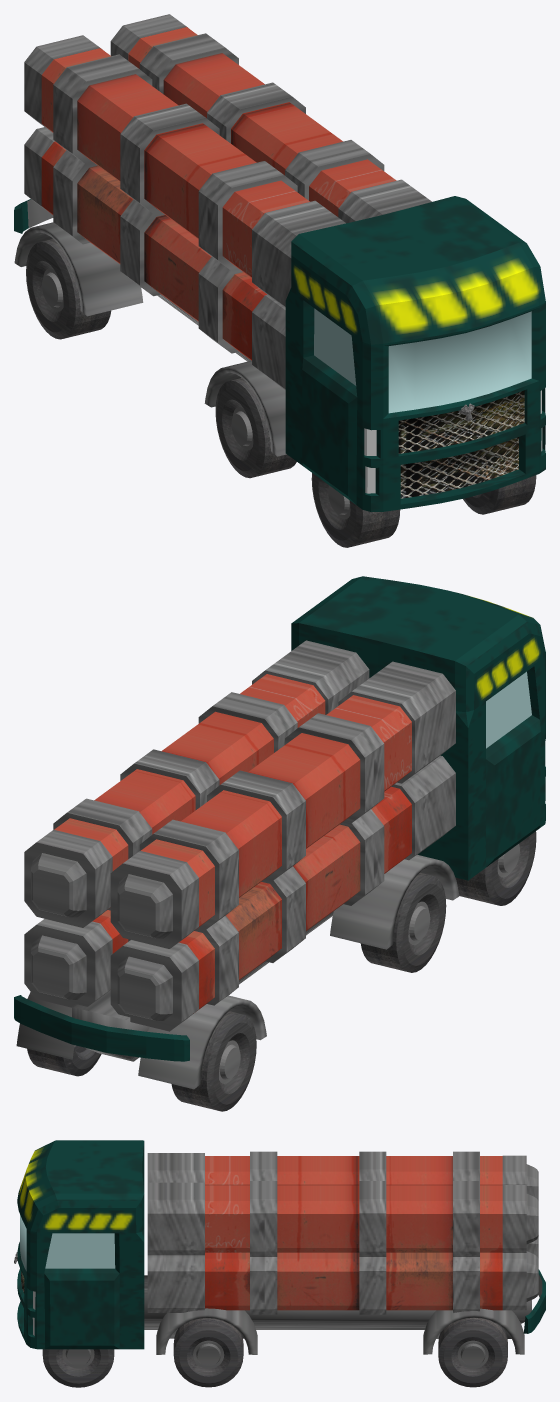
File: Truck 6.fbx
3 renders of one model, top to bottom at view 1: azimuth 30°, elevation 25°; view 2: azimuth 150°, elevation 25°; view 3: azimuth 270°, elevation 25°, orthographic. The views are drawn at different scales.
Parts seen in each view (by area): view 1: Cube; view 2: Cube; view 3: Cube.
Part boxes in pixels (x1,y1,x2,y2): Cube: (14, 14, 545, 547); Cube: (14, 576, 545, 1111); Cube: (14, 1140, 545, 1387).
Size of the model in its own units: 539 by 734 by 1852.
